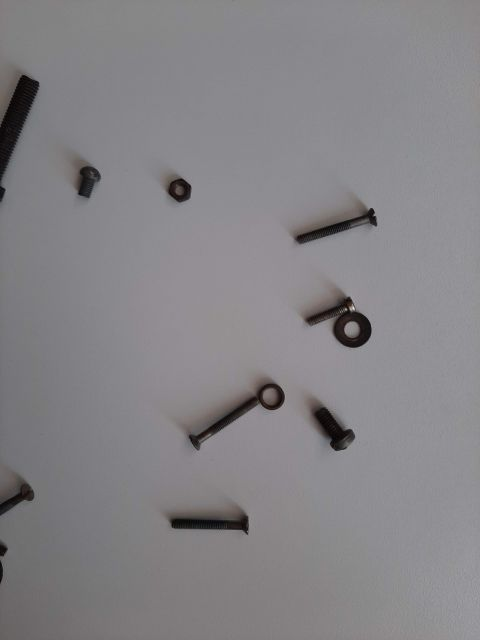nakretka: (155, 155, 215, 215), (245, 365, 305, 415)
podkladka: (325, 305, 385, 355)
sruba: (175, 365, 265, 455), (275, 185, 385, 245), (45, 125, 125, 205), (155, 495, 275, 535), (275, 275, 355, 325), (305, 385, 355, 455)
